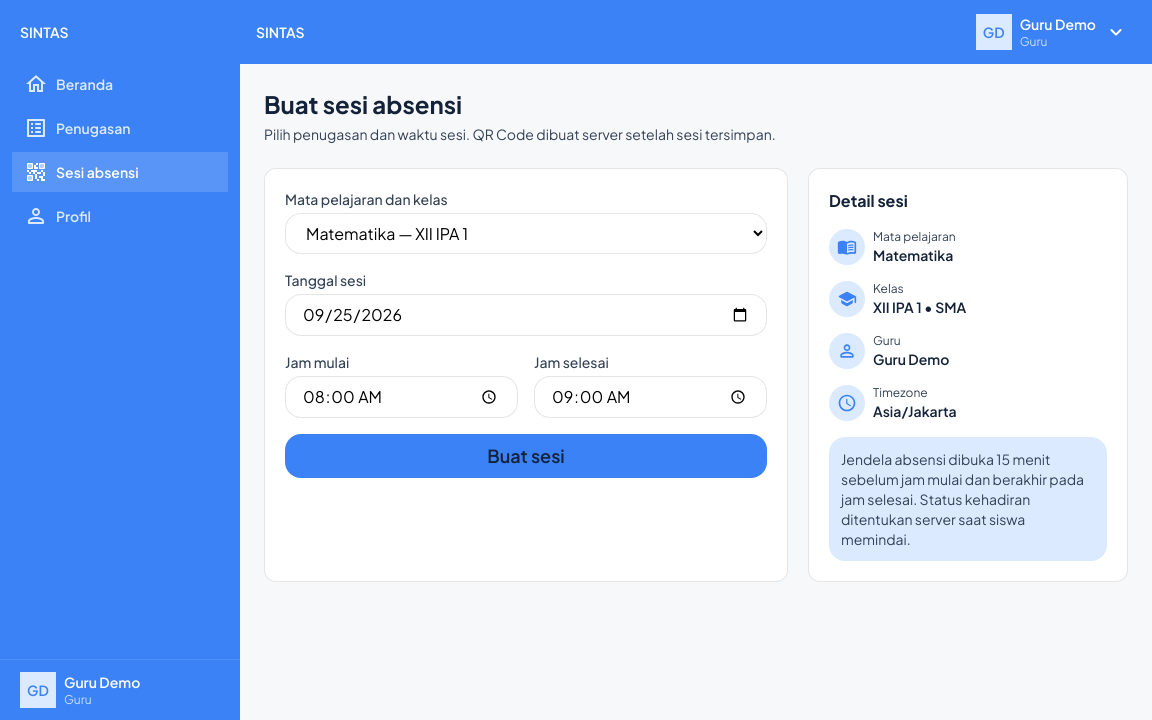
it: halaman buat sesi guru › menampilkan error sesi duplikat dari server
This screenshot has width=1152, height=720.
Expected: the heading "Detail sesi" is shown, [829,190,908,211]
Click the button "Buat sesi".
click(526, 456)  # box [285,434,767,478]
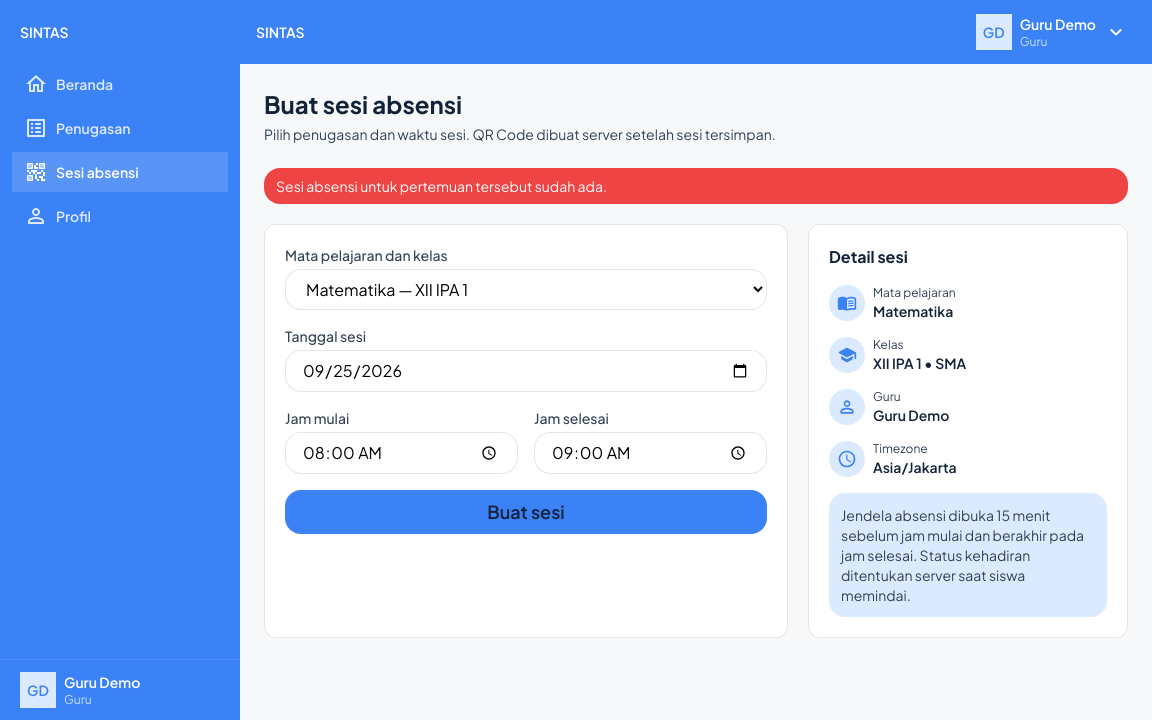
Expected: the message reads "Sesi absensi untuk pertemuan tersebut sudah ada.", [276,177,607,195]
